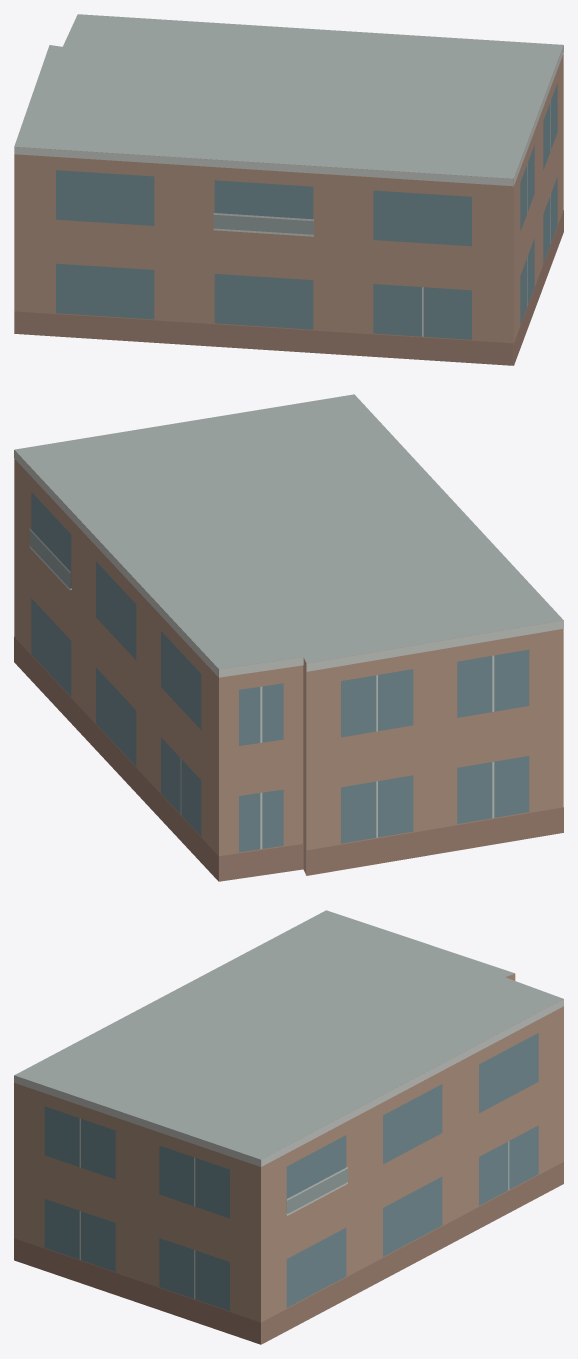
Rendered from survey-upis-32659217.glb.
The picture shows the model from 3 angles, top to bottom: view 1: azimuth 30°, elevation 25°; view 2: azimuth 150°, elevation 25°; view 3: azimuth 270°, elevation 25°; orthographic projection. The views are drawn at different scales.
Visible parts, largest first — view 1: survey-upis-32659217.tmp; view 2: survey-upis-32659217.tmp; view 3: survey-upis-32659217.tmp.
Part boxes in pixels (x1=…): survey-upis-32659217.tmp: x1=14, y1=14, x2=563, y2=365; survey-upis-32659217.tmp: x1=14, y1=394, x2=563, y2=881; survey-upis-32659217.tmp: x1=14, y1=910, x2=563, y2=1344.
Size of the model in its own units: 17.65 by 6.1 by 16.43.
